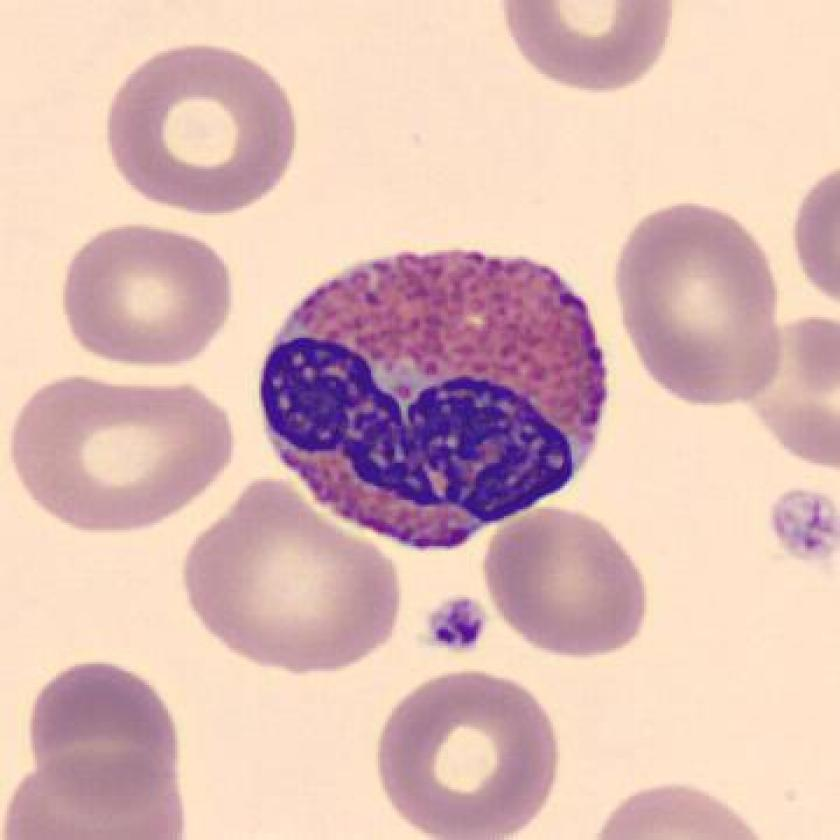eosinophil: (241, 239, 629, 566)
